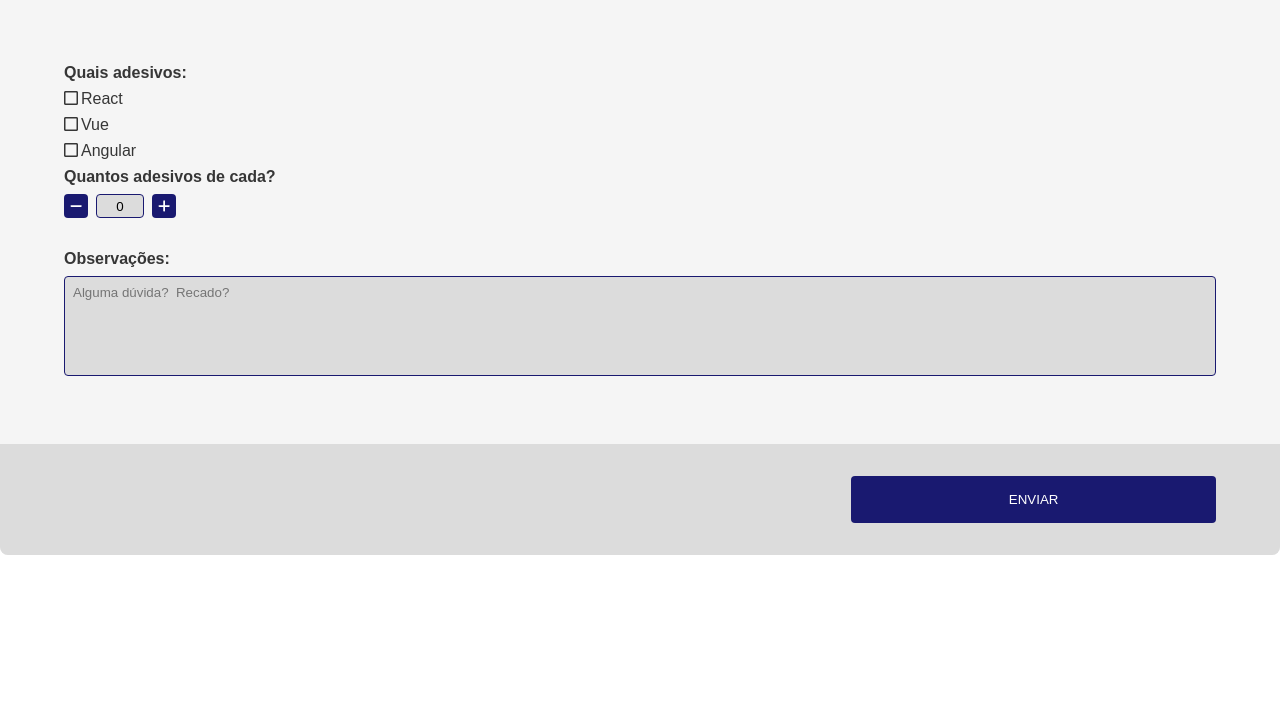
Test: StickerPackForm component › Should add 1 more stickers to the quantity block after clicking the plus button
Expected: the field with test id "quantity_of_stickers" holds "0", top-left (96, 194), bottom-right (144, 218)
Expected: the field with test id "quantity_of_stickers" does not hold "1", top-left (96, 194), bottom-right (144, 218)
Click the button with test id "plus-button".
click(164, 206)  # box top-left (152, 194), bottom-right (176, 218)
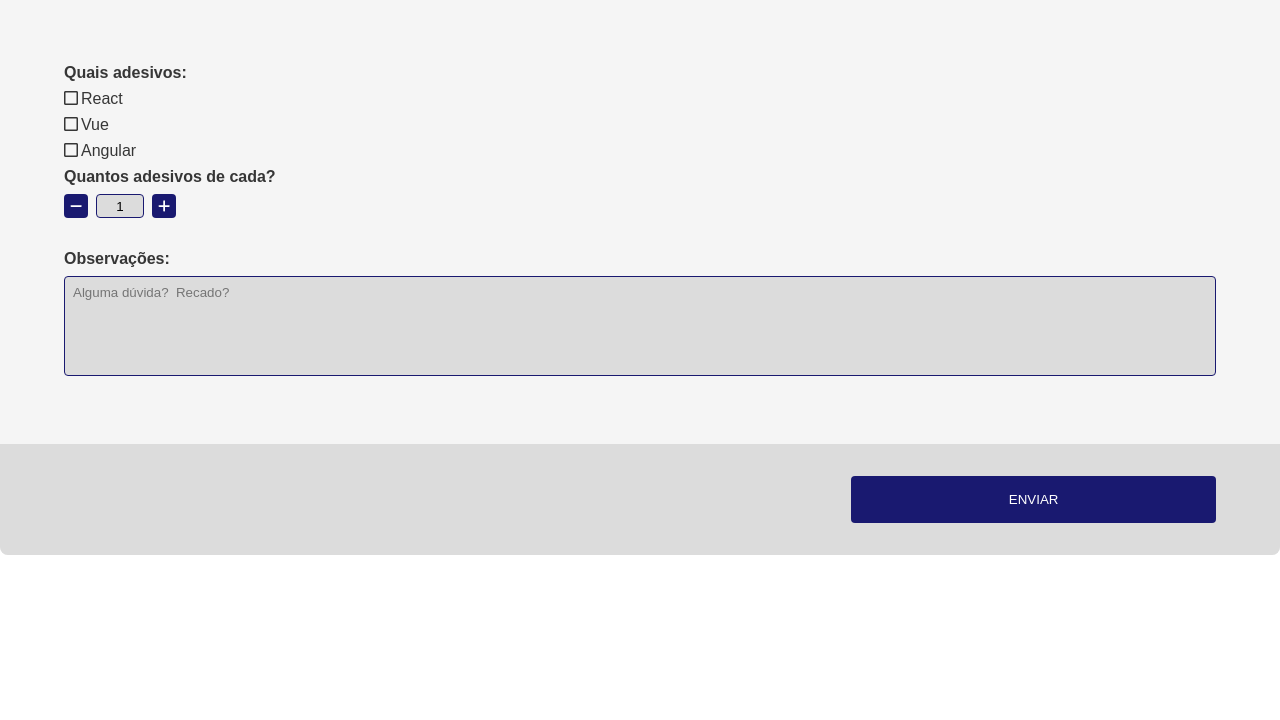
Now the field with test id "quantity_of_stickers" does not hold "0", box top-left (96, 194), bottom-right (144, 218)
Now the field with test id "quantity_of_stickers" holds "1", box top-left (96, 194), bottom-right (144, 218)
